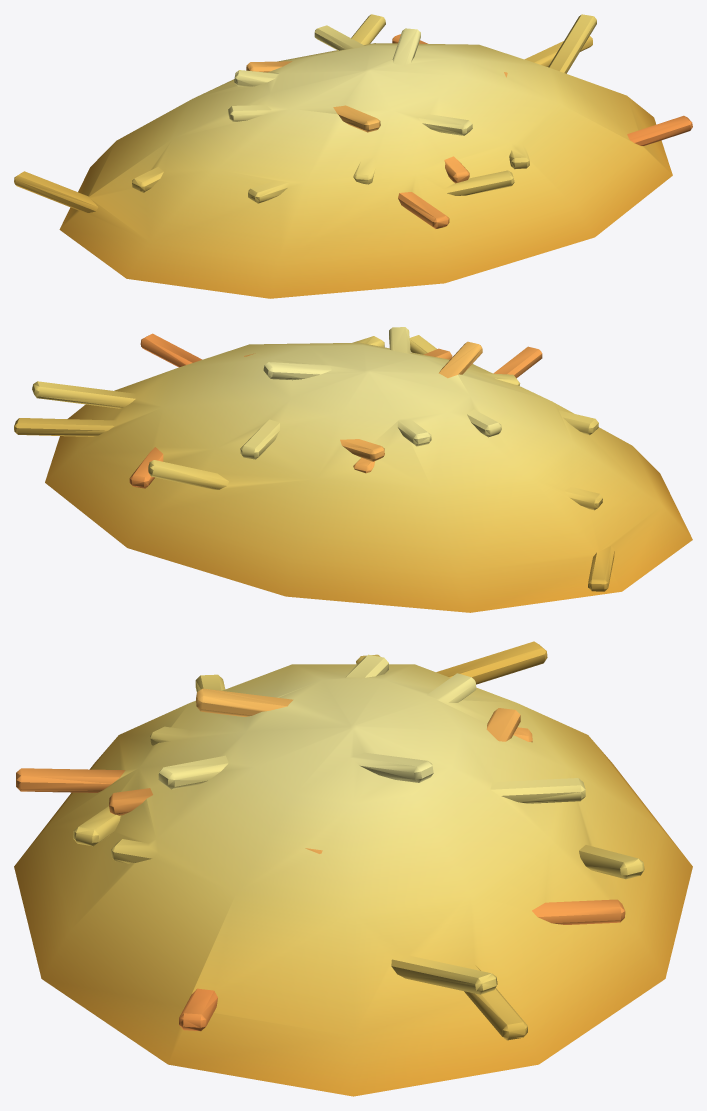
File: straw_pile.glb
The picture shows the model from 3 angles, top to bottom: view 1: azimuth 30°, elevation 25°; view 2: azimuth 150°, elevation 25°; view 3: azimuth 270°, elevation 25°; orthographic projection. The views are drawn at different scales.
Visible parts, largest first — view 1: straw_pile; view 2: straw_pile; view 3: straw_pile.
Part boxes in pixels (x1,y1,x2,y2): straw_pile: [14, 14, 692, 298]; straw_pile: [14, 327, 692, 612]; straw_pile: [14, 641, 692, 1096].
Bounding box in the file's own units: 1.91 × 0.3942 × 1.35.
Materials: 1 (1 with a texture image).
